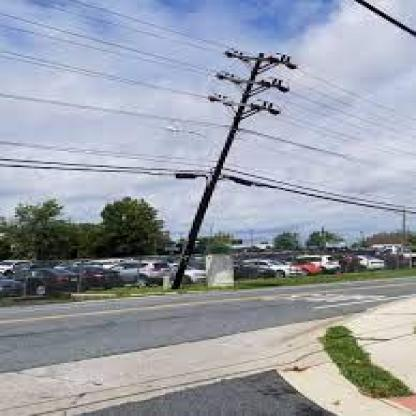Electrical Pole: (140, 43, 300, 295)
